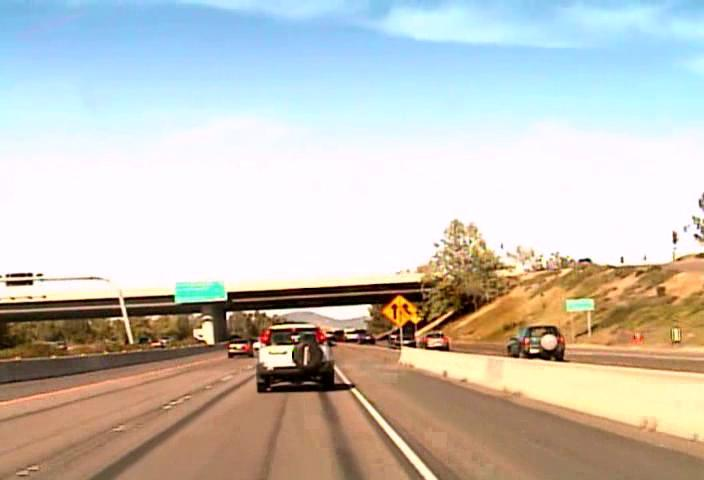addedLane: (379, 294, 418, 328)
